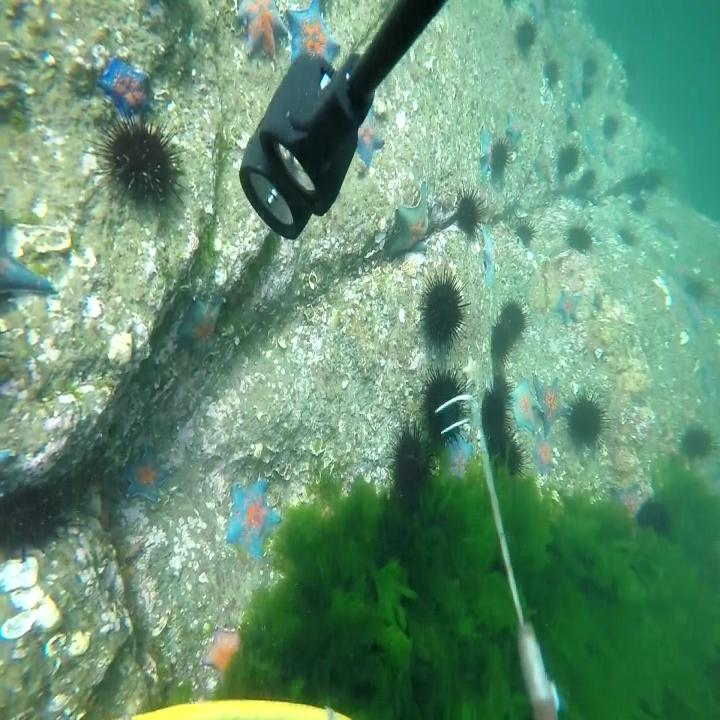echinus: (81, 108, 195, 220), (417, 359, 473, 455), (416, 266, 474, 358), (385, 418, 435, 507), (564, 386, 614, 450), (496, 422, 532, 482), (481, 388, 513, 454), (453, 185, 487, 241), (681, 419, 720, 462), (498, 295, 534, 339), (634, 498, 674, 536), (557, 135, 586, 179), (490, 317, 514, 370), (488, 130, 514, 176), (566, 219, 598, 255), (492, 372, 517, 418), (515, 19, 540, 50), (514, 217, 540, 246), (686, 276, 707, 302), (544, 56, 561, 88), (579, 167, 596, 193), (644, 168, 662, 190), (604, 114, 618, 142), (627, 172, 644, 195), (582, 57, 598, 79), (622, 56, 636, 81), (565, 110, 578, 135), (632, 194, 648, 214), (618, 226, 633, 246), (580, 79, 594, 99), (602, 150, 613, 169), (612, 182, 622, 199)
starfish: (223, 475, 285, 569), (92, 51, 158, 122), (384, 178, 432, 262), (227, 4, 292, 64), (121, 445, 172, 508), (177, 290, 225, 354), (288, 17, 344, 71), (199, 623, 247, 682), (532, 373, 576, 435), (353, 100, 387, 172), (15, 255, 60, 298), (510, 379, 544, 435), (440, 426, 476, 477), (610, 481, 646, 520), (530, 143, 554, 186), (480, 229, 497, 289), (533, 435, 557, 476), (556, 290, 582, 327), (694, 359, 715, 401), (479, 124, 492, 182), (653, 212, 679, 240), (505, 109, 524, 147), (462, 354, 480, 393), (568, 72, 586, 108), (666, 271, 685, 304), (686, 297, 702, 330), (585, 126, 599, 155), (528, 1, 548, 21)
